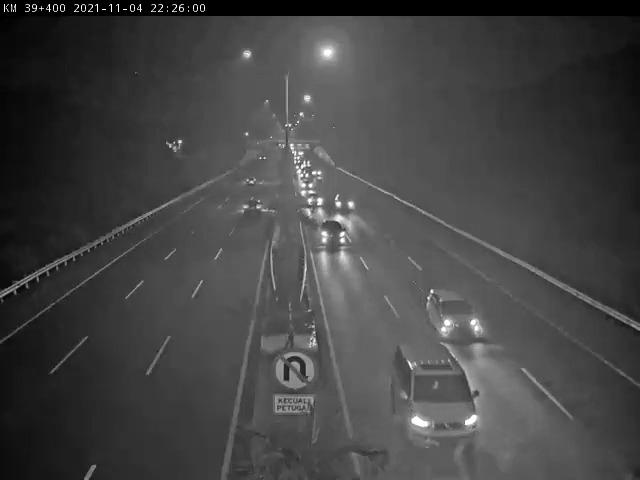car: (388, 337, 489, 449), (425, 279, 487, 339), (319, 218, 348, 252), (336, 191, 357, 215), (246, 195, 263, 218), (309, 193, 323, 208)
